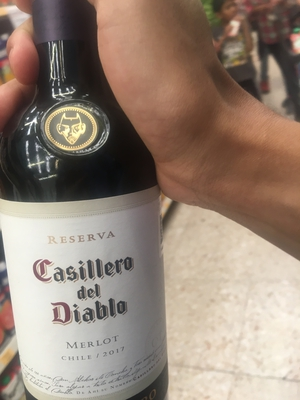casillero del diablo merlot: (2, 22, 176, 400)
